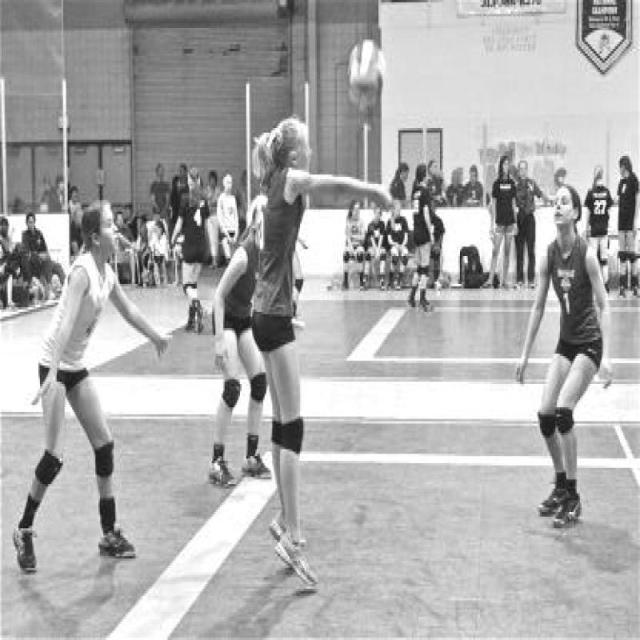volleyball: (345, 44, 385, 107)
